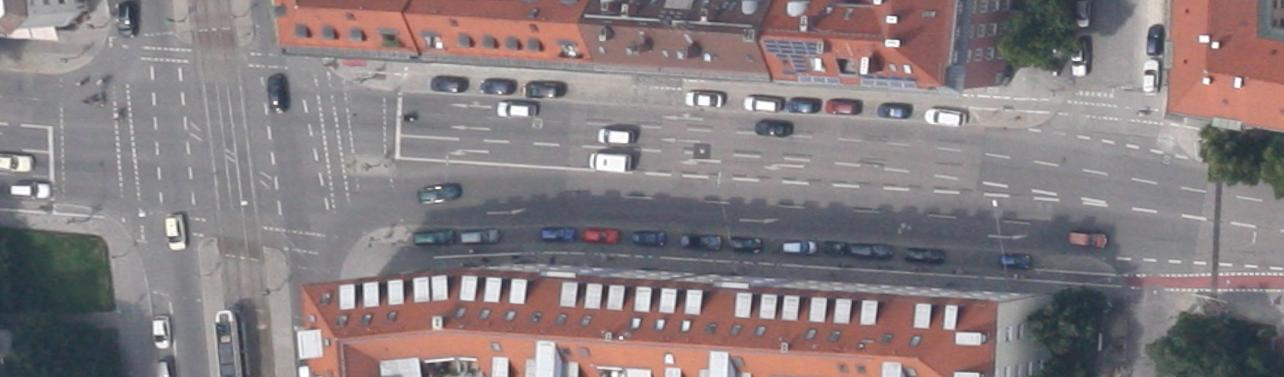car: (265, 72, 292, 113), (417, 182, 462, 206), (924, 107, 968, 127), (164, 214, 186, 252), (755, 119, 793, 138), (905, 246, 945, 264), (526, 80, 564, 98), (1068, 231, 1108, 248), (682, 233, 722, 250), (10, 182, 52, 198), (414, 230, 456, 246), (430, 75, 469, 92), (851, 243, 892, 259), (1070, 40, 1088, 76), (496, 102, 537, 117), (118, 4, 136, 38), (1143, 60, 1161, 94), (540, 226, 576, 243), (632, 228, 666, 246), (151, 316, 170, 348), (685, 92, 723, 108), (729, 236, 762, 254), (582, 228, 618, 244), (1000, 252, 1032, 270), (597, 128, 635, 143), (481, 78, 514, 95), (877, 102, 912, 118), (461, 229, 500, 243), (826, 99, 862, 114), (1146, 24, 1164, 54), (744, 97, 782, 111), (782, 240, 817, 255), (788, 97, 820, 113), (822, 240, 848, 256), (1078, 2, 1091, 27)
